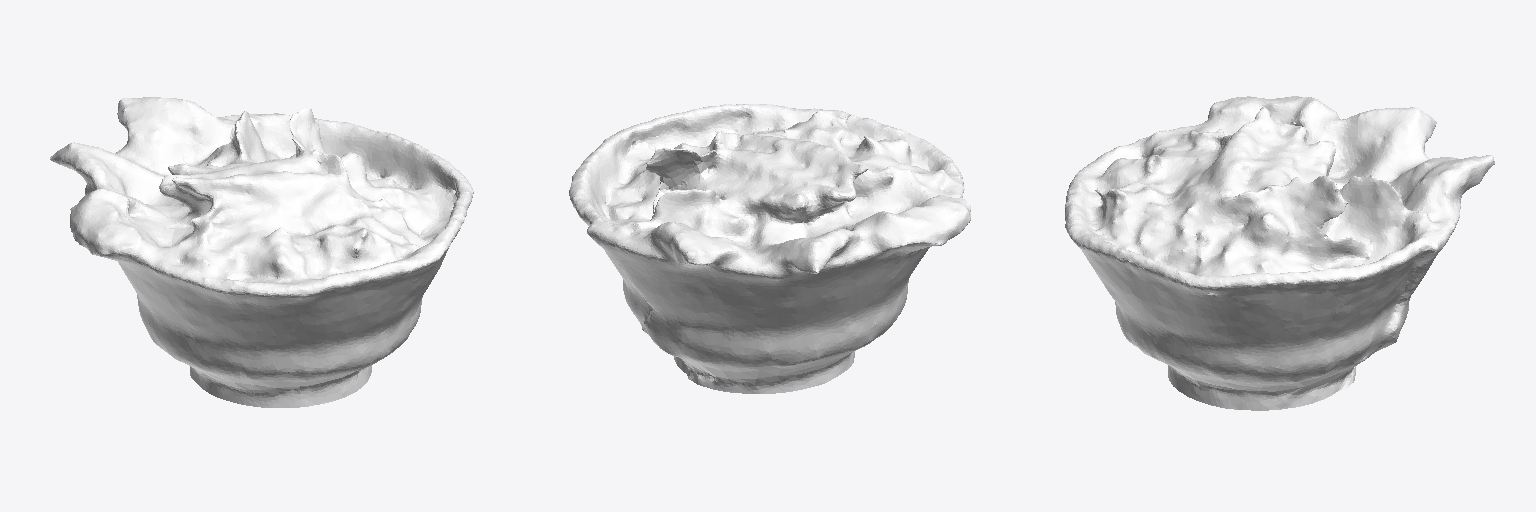
Rendered from Scaniverse_2023_06_11_141608.obj.
The picture shows the model from 3 angles: view 1: azimuth 30°, elevation 25°; view 2: azimuth 150°, elevation 25°; view 3: azimuth 270°, elevation 25°; orthographic projection.
Visible parts, largest first — view 1: mesh; view 2: mesh; view 3: mesh.
Boxes of the visible parts, x1=… form: mesh: x1=50, y1=97, x2=473, y2=407; mesh: x1=569, y1=104, x2=970, y2=393; mesh: x1=1065, y1=96, x2=1494, y2=410.
Size of the model in its own units: 0.1595 by 0.0929 by 0.1654.